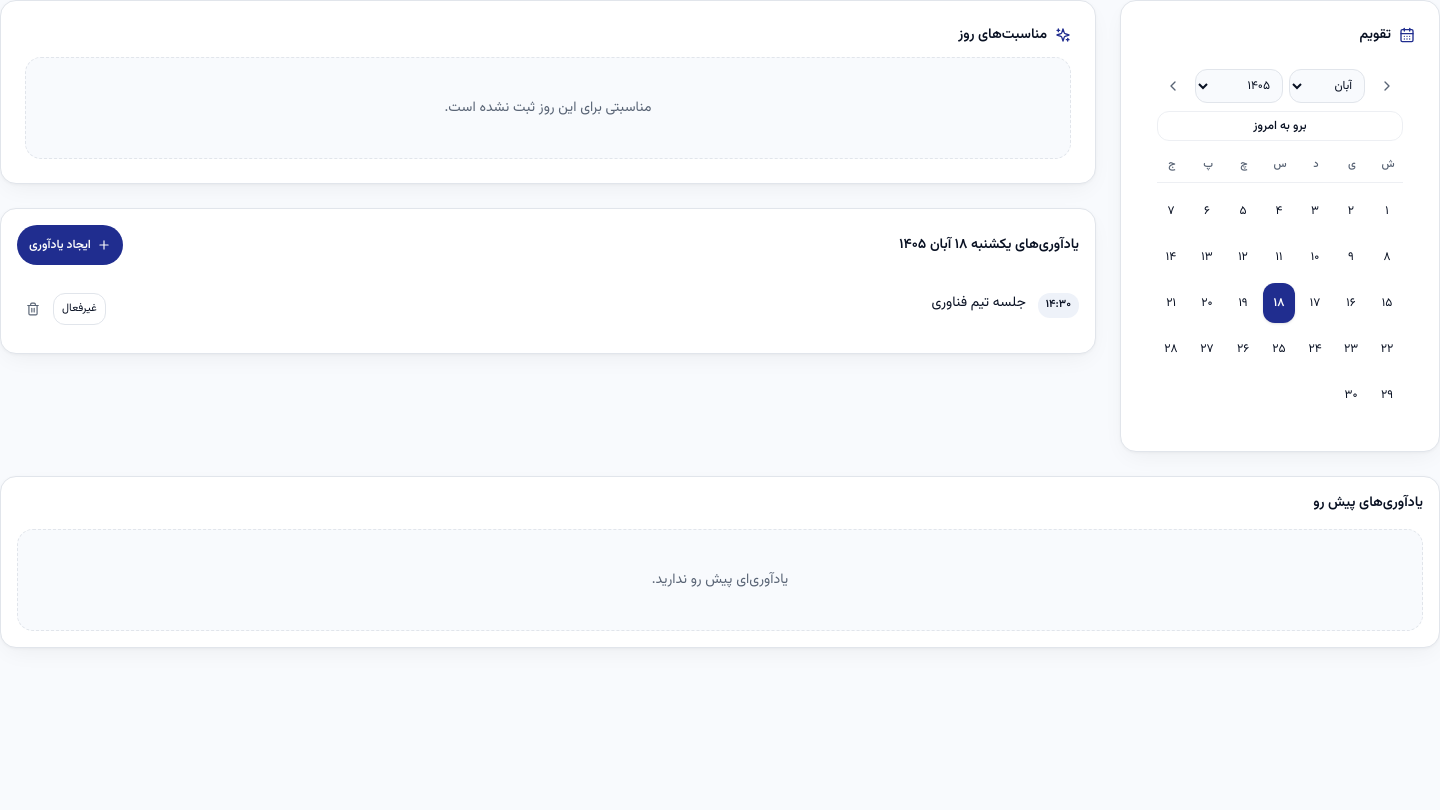
Test: CoreCalendarView › reminder management › reports a failed delete instead of removing the row optimistically
This screenshot has width=1440, height=810.
What coordinates should you click on to do the following:
click the button with test id "reminder-delete"
I would click on:
 (33, 309)
Its box is [17,293,49,325].
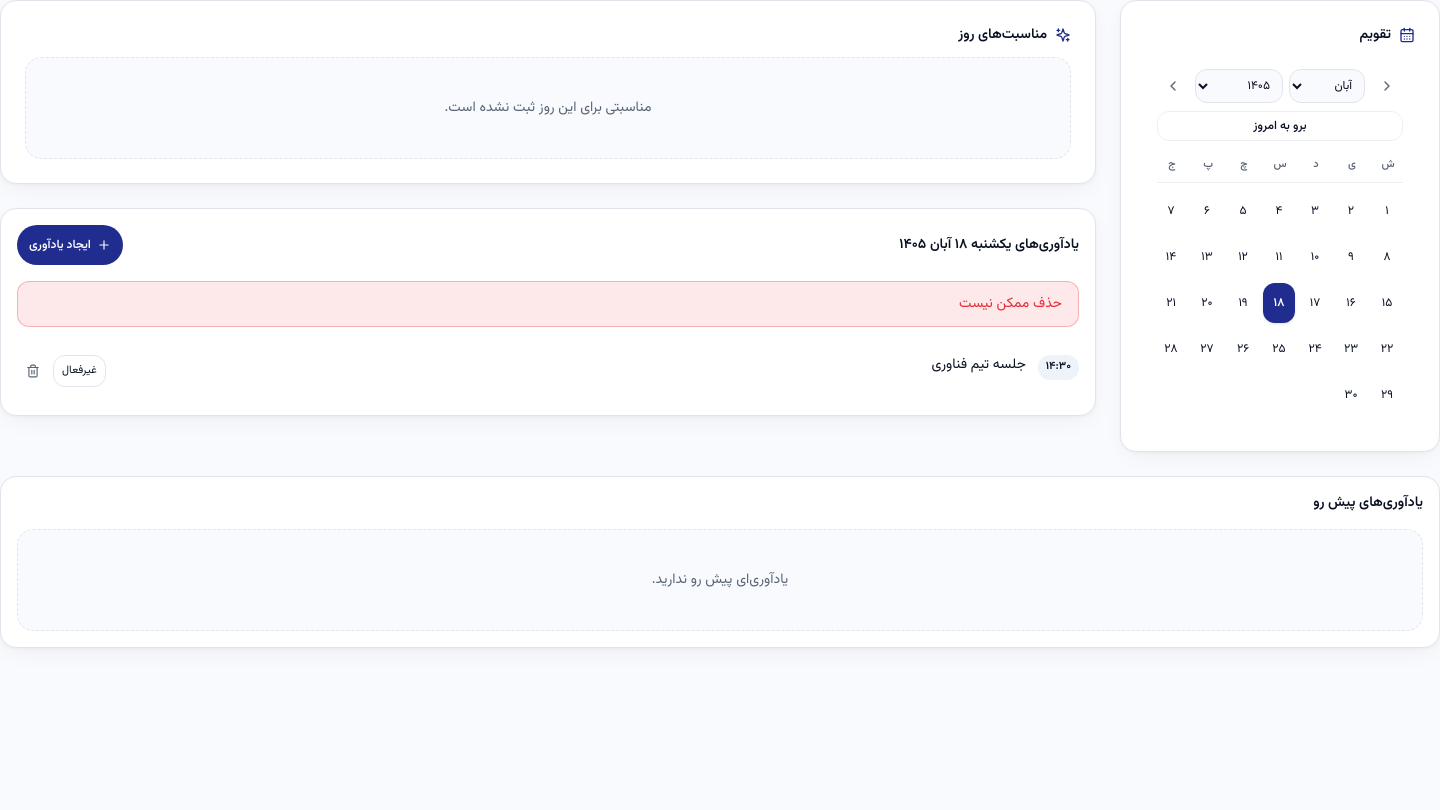
expect the list item with test id "reminder-item" is shown: met, box [17,354,1079,387]
expect the element with test id "reminder-action-error" reads "حذف ممکن نیست": met, box [959,293,1062,315]
